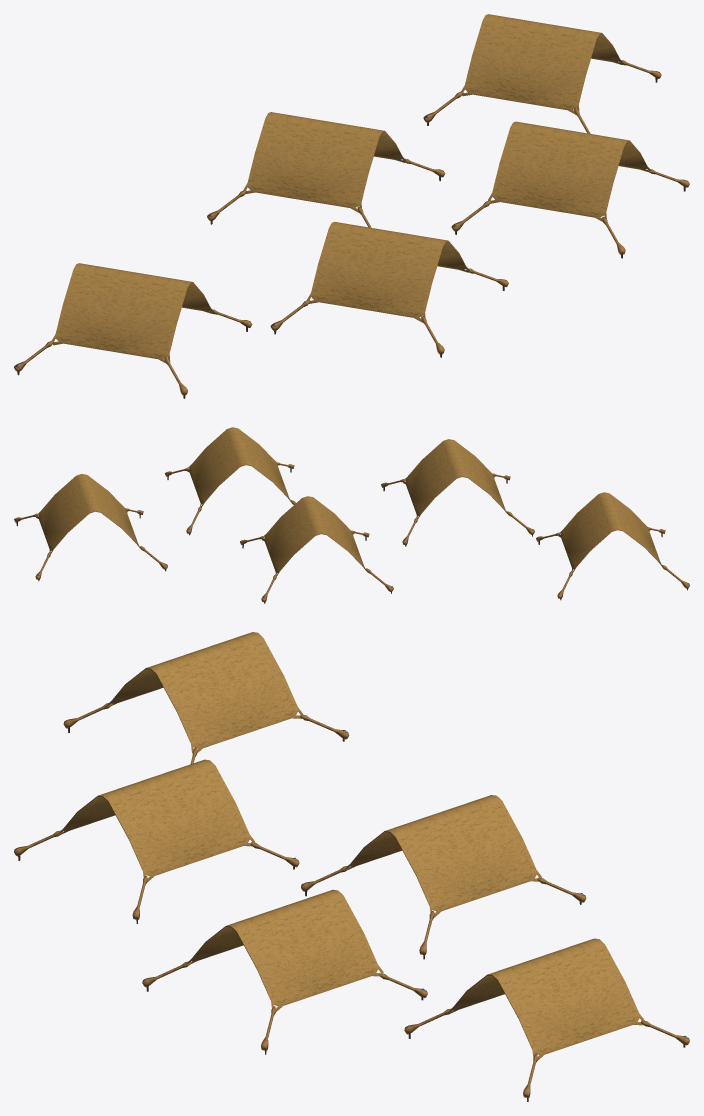
The model's file is Tarps_Tan.obj.
3 views of the same model, one above another, from view 1: azimuth 30°, elevation 25°; view 2: azimuth 150°, elevation 25°; view 3: azimuth 270°, elevation 25° (orthographic). The views are drawn at different scales.
Visible parts, largest first — view 1: Tarp_Tan.002_Material.208, Tarp_Tan.003_Material.208, Tarp_Tan_Material.208, Tarp_Tan.001_Material.208, Tarp_Tan.004_Material.208, Tent_Stakes.002_Material.148, Tent_Stakes.003_Material.148, Tent_Stakes.004_Material.148; view 2: Tarp_Tan.002_Material.208, Tarp_Tan.004_Material.208, Tarp_Tan.001_Material.208, Tarp_Tan.003_Material.208, Tarp_Tan_Material.208, Tent_Stakes_Material.148, Tent_Stakes.004_Material.148, Tent_Stakes.001_Material.148, Tent_Stakes.003_Material.148; view 3: Tarp_Tan.002_Material.208, Tarp_Tan.001_Material.208, Tarp_Tan_Material.208, Tarp_Tan.003_Material.208, Tarp_Tan.004_Material.208, Tent_Stakes.001_Material.148, Tent_Stakes.002_Material.148, Tent_Stakes_Material.148, Tent_Stakes.003_Material.148.
Part boxes in pixels (left/top/right/bottom): Tarp_Tan.002_Material.208: left=488, top=121, right=651, bottom=221; Tarp_Tan.003_Material.208: left=307, top=221, right=469, bottom=322; Tarp_Tan_Material.208: left=461, top=14, right=624, bottom=114; Tarp_Tan.001_Material.208: left=243, top=112, right=406, bottom=212; Tarp_Tan.004_Material.208: left=52, top=263, right=214, bottom=362; Tent_Stakes.002_Material.148: left=451, top=169, right=689, bottom=258; Tent_Stakes.003_Material.148: left=270, top=268, right=508, bottom=357; Tent_Stakes.004_Material.148: left=14, top=309, right=252, bottom=398; Tarp_Tan.002_Material.208: left=187, top=427, right=291, bottom=507; Tarp_Tan.004_Material.208: left=558, top=492, right=662, bottom=572; Tarp_Tan.001_Material.208: left=262, top=496, right=366, bottom=576; Tarp_Tan.003_Material.208: left=403, top=439, right=507, bottom=519; Tarp_Tan_Material.208: left=36, top=474, right=140, bottom=553; Tent_Stakes_Material.148: left=14, top=508, right=167, bottom=581; Tent_Stakes.004_Material.148: left=536, top=527, right=689, bottom=600; Tent_Stakes.001_Material.148: left=240, top=530, right=393, bottom=603; Tent_Stakes.003_Material.148: left=381, top=473, right=534, bottom=546; Tarp_Tan.002_Material.208: left=186, top=889, right=383, bottom=1011; Tarp_Tan.001_Material.208: left=344, top=795, right=541, bottom=917; Tarp_Tan_Material.208: left=447, top=938, right=644, bottom=1060; Tarp_Tan.003_Material.208: left=58, top=759, right=255, bottom=882; Tarp_Tan.004_Material.208: left=106, top=632, right=303, bottom=753; Tent_Stakes.001_Material.148: left=301, top=866, right=586, bottom=959; Tent_Stakes.002_Material.148: left=142, top=961, right=427, bottom=1054; Tent_Stakes_Material.148: left=404, top=1008, right=689, bottom=1101; Tent_Stakes.003_Material.148: left=14, top=830, right=299, bottom=923.
Size of the model in its own units: 14.81 by 1.42 by 9.89.
